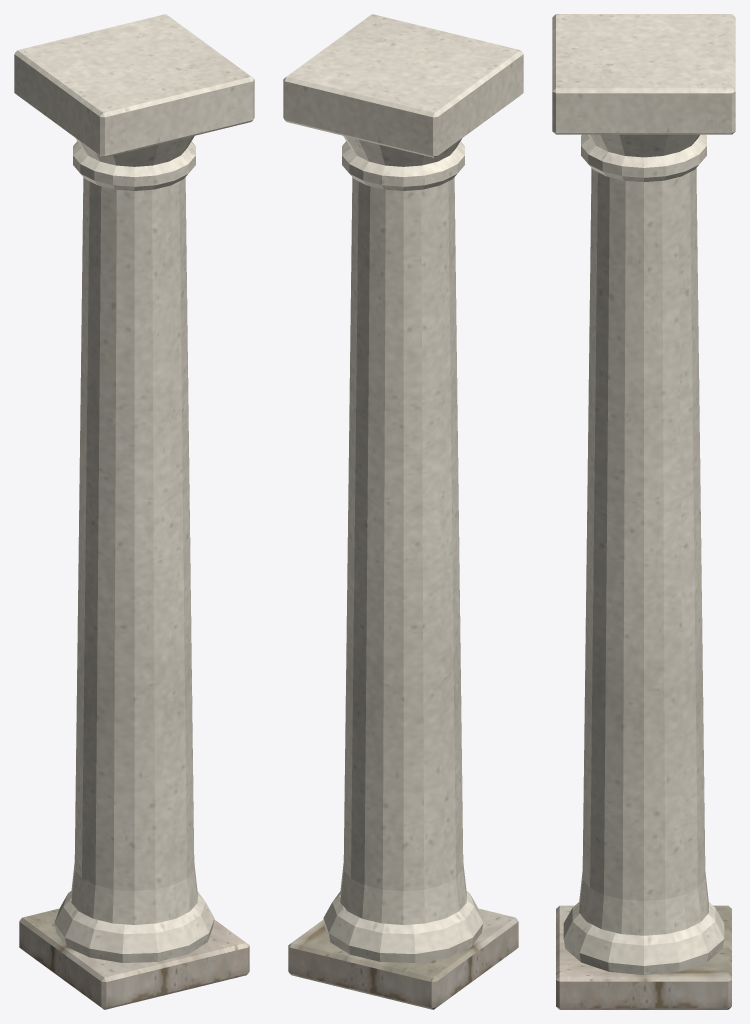
The model's file is column.glb.
3 views of the same model, side by side, from view 1: azimuth 30°, elevation 25°; view 2: azimuth 150°, elevation 25°; view 3: azimuth 270°, elevation 25° (orthographic). The views are drawn at different scales.
Visible parts, largest first — view 1: column_trim, column_stone2; view 2: column_trim, column_stone2; view 3: column_trim, column_stone2.
Part boxes in pixels (left/top/right/bottom): column_trim: left=14, top=14, right=254, bottom=962; column_stone2: left=19, top=908, right=249, bottom=1009; column_trim: left=283, top=14, right=523, bottom=962; column_stone2: left=288, top=908, right=518, bottom=1009; column_trim: left=552, top=14, right=735, bottom=975; column_stone2: left=556, top=905, right=731, bottom=1009.
Size of the model in its own units: 0.5 by 2.78 by 0.5.
Materials: 2 (2 with a texture image).
